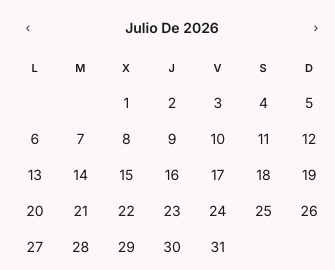
CalendarPicker › navigates to previous month when clicking the left button
The width and height of the screenshot is (335, 270).
Expected: the text "julio de 2026" is shown, [125,18,219,38]
Click the button named "Mes anterior".
click(28, 28)  # box [12,12,44,44]
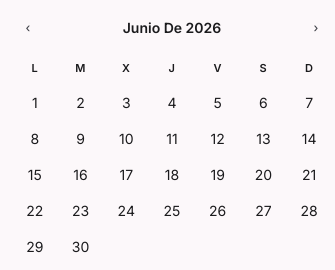
Result: the text "junio de 2026" is shown at [123,18,221,38]
